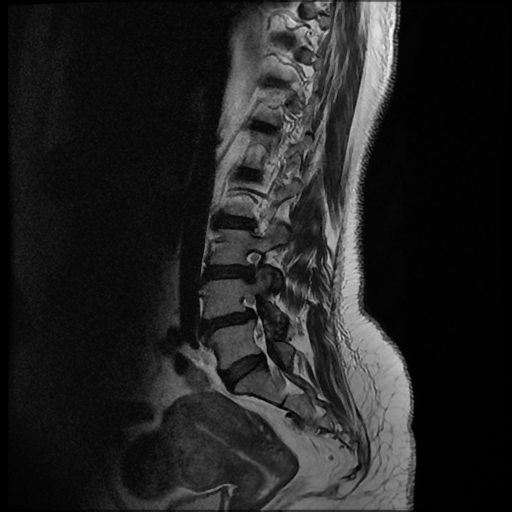RFS1: (233, 240, 273, 287)
